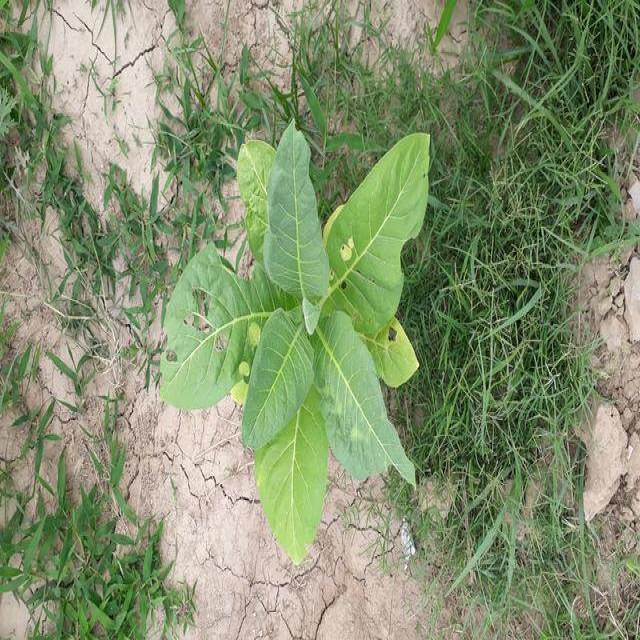crop: (153, 128, 432, 556)
